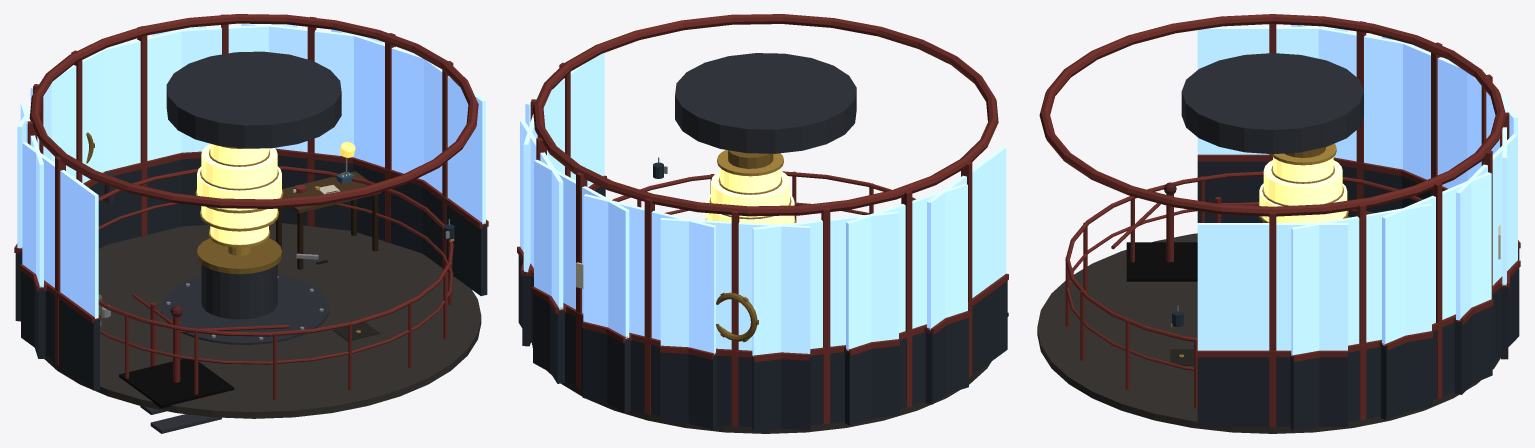
File: lamp_room.glb
The picture shows the model from 3 angles, left to right: view 1: azimuth 30°, elevation 25°; view 2: azimuth 150°, elevation 25°; view 3: azimuth 270°, elevation 25°; orthographic projection. The views are drawn at different scales.
Visible parts, largest first — view 1: LrFloor, LrRoofCap, LrRoofTorus, LrGlass4, LrGlass8, LrGlass1, LrGlass0, LrFloorPlate, LrGlass5, LrGlass2, LrWall8, LrWall0 (+33 smaller); view 2: LrRoofCap, LrRoofTorus, LrGlass6, LrGlass5, LrGlass4, LrGlass7, LrGlass3, LrGlass8, LrWall5, LrWall6, LrWall4, LrGlass0 (+28 smaller); view 3: LrFloor, LrRoofCap, LrGlass0, LrRoofTorus, LrGlass1, LrGlass2, LrWall0, LrGlass6, LrGlass7, LrWall1, LrGlass3, LrWall2 (+25 smaller).
Part boxes in pixels (x1,y1,x2,y2): LrFloor: [44, 222, 481, 418]; LrRoofCap: [166, 51, 341, 148]; LrRoofTorus: [29, 14, 478, 208]; LrGlass4: [100, 26, 206, 171]; LrGlass8: [22, 142, 98, 318]; LrGlass1: [331, 29, 423, 179]; LrGlass0: [410, 51, 485, 224]; LrFloorPlate: [161, 275, 328, 344]; LrGlass5: [30, 43, 122, 183]; LrGlass2: [241, 23, 382, 157]; LrWall8: [21, 271, 99, 390]; LrWall0: [422, 187, 487, 295]; LrRoofCap: [675, 53, 856, 153]; LrRoofTorus: [533, 14, 998, 216]; LrGlass6: [752, 211, 898, 356]; LrGlass5: [660, 218, 810, 353]; LrGlass4: [583, 194, 715, 354]; LrGlass7: [846, 183, 967, 350]; LrGlass3: [534, 159, 629, 338]; LrGlass8: [927, 147, 1006, 330]; LrWall5: [660, 352, 810, 430]; LrWall6: [752, 346, 899, 431]; LrWall4: [582, 328, 716, 429]; LrGlass0: [525, 53, 604, 187]; LrFloor: [1037, 233, 1500, 433]; LrRoofCap: [1181, 53, 1363, 154]; LrGlass0: [1197, 223, 1347, 350]; LrRoofTorus: [1039, 14, 1505, 216]; LrGlass1: [1291, 203, 1431, 355]; LrGlass2: [1382, 172, 1491, 345]; LrWall0: [1197, 357, 1347, 426]; LrGlass6: [1382, 36, 1467, 188]; LrGlass7: [1291, 25, 1430, 169]; LrWall1: [1290, 338, 1432, 431]; LrGlass3: [1456, 134, 1517, 320]; LrWall2: [1381, 306, 1492, 420].
Size of the model in its own units: 6.52 by 3.91 by 6.36.
